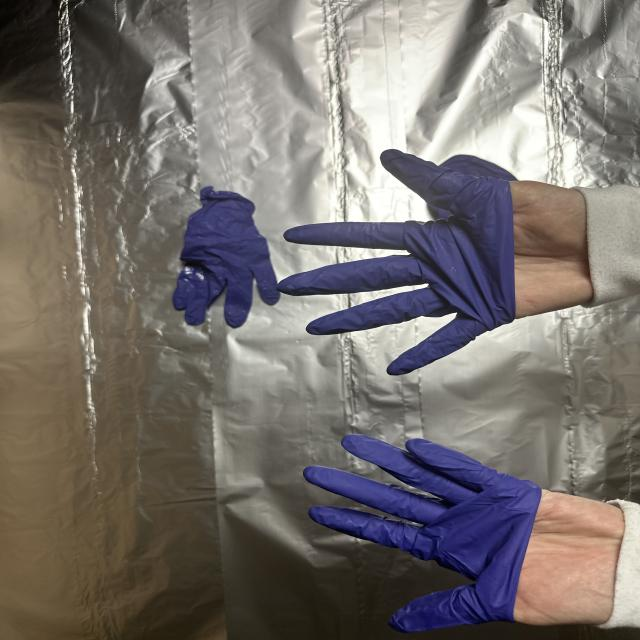glove_partial: (275, 145, 601, 377), (305, 427, 624, 633)
